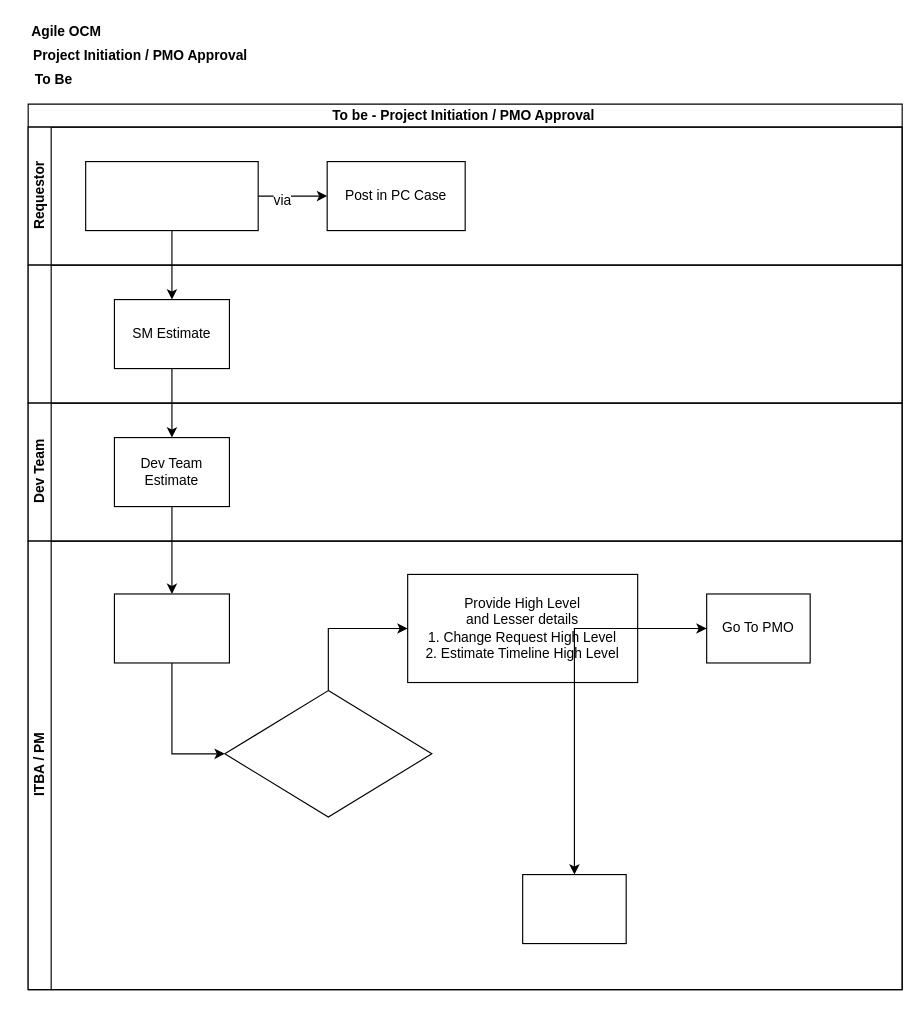
The diagram is 922 pixels wide and 1010 high, and some of its shapes have lost their labels. Here are the shapes that lost their labels. From the top down, the box of each, then its label:
(85, 160, 258, 231): Discuss with PO and SM for new project / enhancement
(27, 264, 902, 403): PO / SM
(113, 593, 229, 663): Submit ITSR
(224, 689, 432, 817): Dev Estimate > 30 days?
(522, 873, 626, 944): Put in Product Backlog
